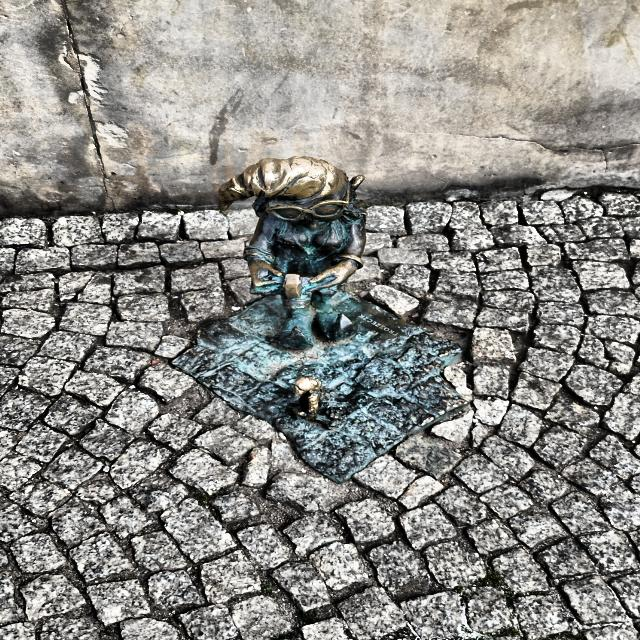Troszka i Adoratorek: (170, 159, 462, 486)
